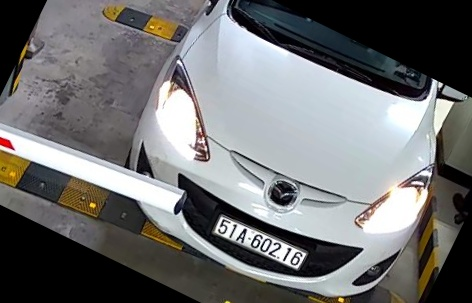plate: (208, 211, 319, 272)
